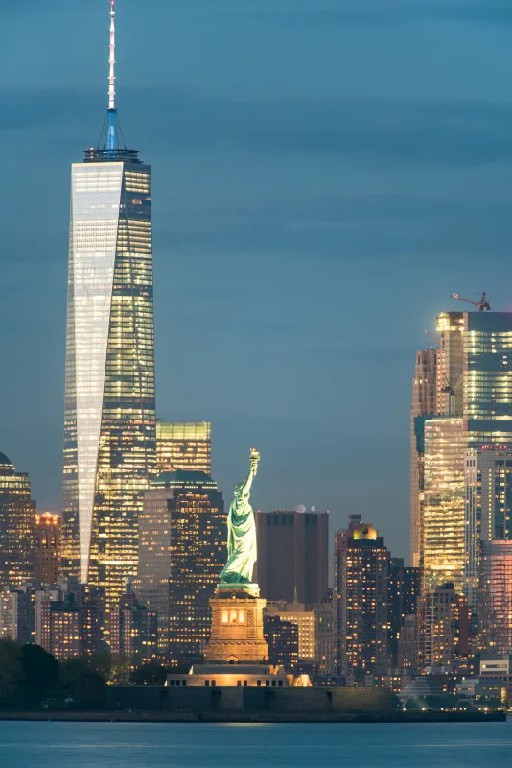SL: (203, 446, 269, 663)
